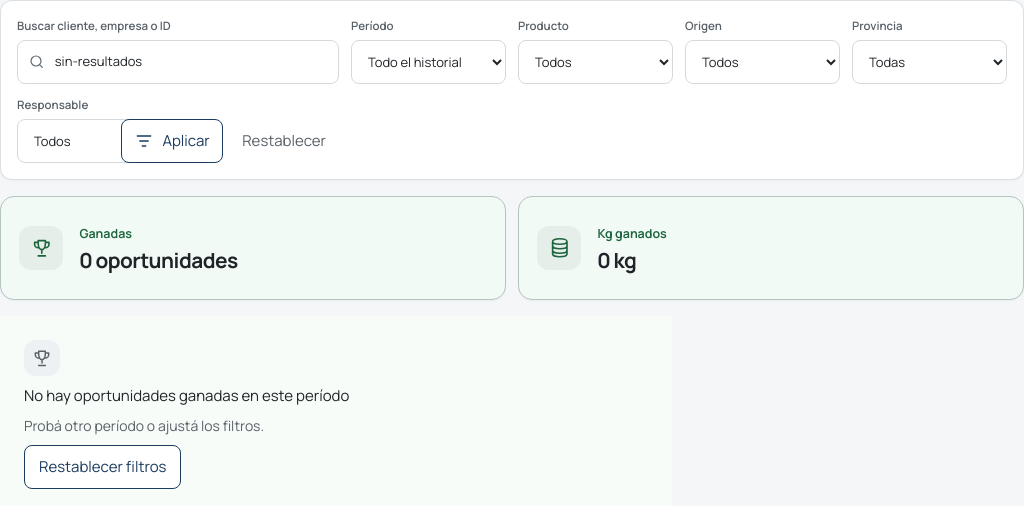
WonPage › shows a compact empty state and resets filters from its action
The width and height of the screenshot is (1024, 506).
Check: the heading "No hay oportunidades ganadas en este período" is shown, box [24,384,349,407]
Check: the text "Probá otro período o ajustá los filtros." is shown, box [24,416,264,436]
Click the button "Restablecer filtros" at (103, 467), box [24,445,181,489]
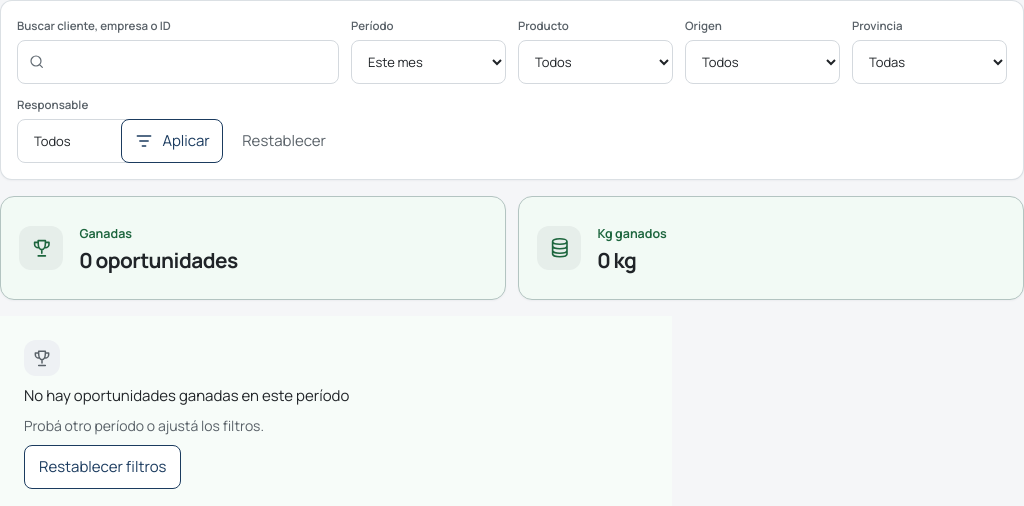
Check: the dropdown labelled "Período" shows "Este mes", box [351,40,506,84]
